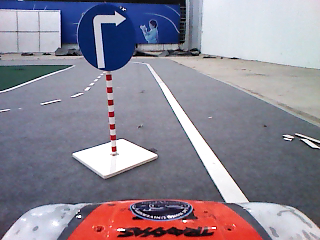turn: (73, 4, 138, 72)
